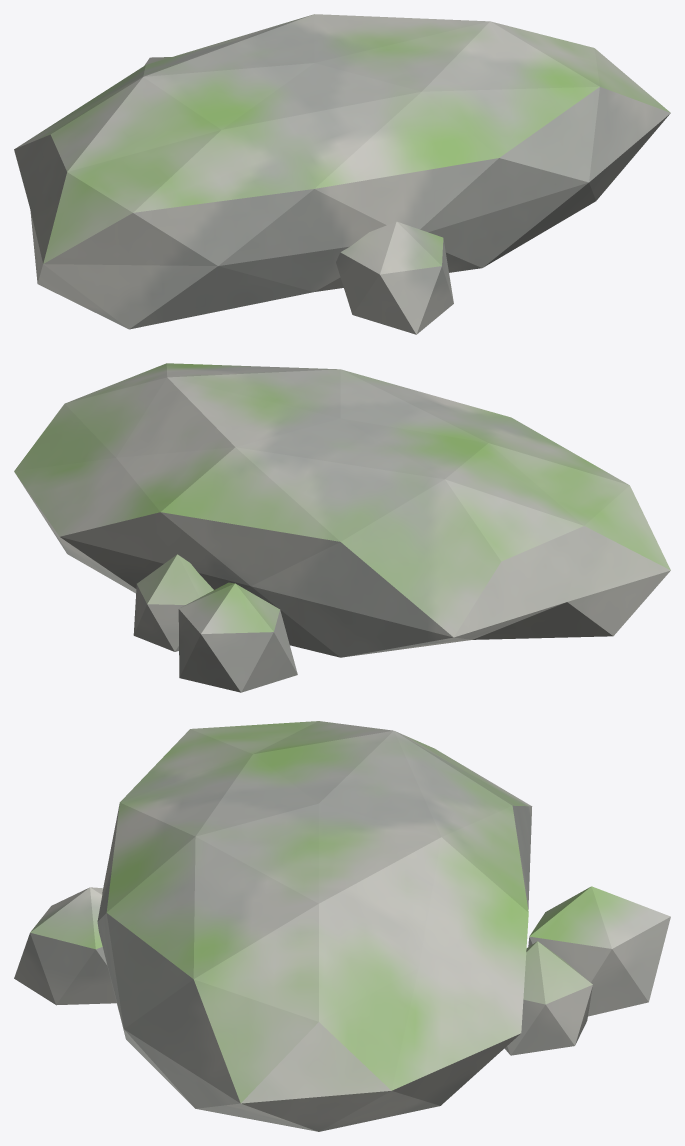
The model's file is rock_c.gltf.
3 views of the same model, one above another, from view 1: azimuth 30°, elevation 25°; view 2: azimuth 150°, elevation 25°; view 3: azimuth 270°, elevation 25° (orthographic). The views are drawn at different scales.
Parts seen in each view (by area): view 1: rock_c; view 2: rock_c; view 3: rock_c.
Part boxes in pixels (x1,y1,x2,y2): rock_c: (14,14,670,334); rock_c: (14,363,670,692); rock_c: (14,721,670,1131).
Bounding box in the file's own units: 1.35 × 0.3445 × 1.07.
1 material, 1 textured.
